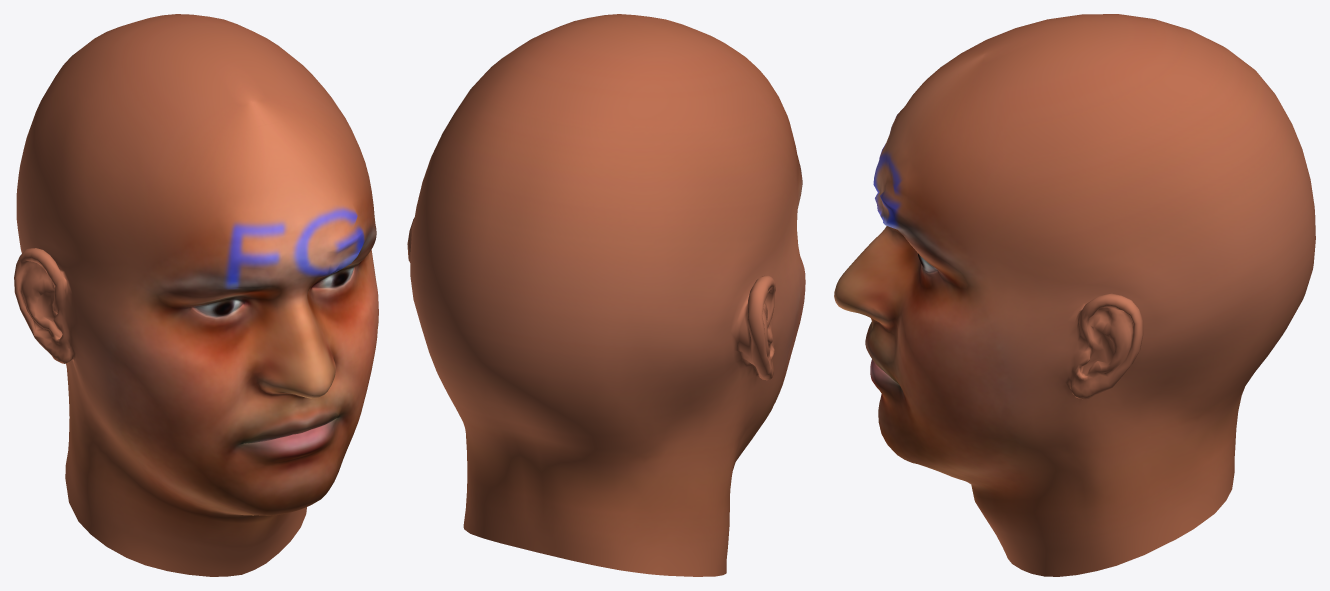
File: random_anyrace_anysex_15.obj
3 views of the same model, side by side, from view 1: azimuth 30°, elevation 25°; view 2: azimuth 150°, elevation 25°; view 3: azimuth 270°, elevation 25° (orthographic). The views are drawn at different scales.
Parts seen in each view (by area): view 1: HeadHires; view 2: HeadHires; view 3: HeadHires.
Boxes of the visible parts, left/top/right/bottom form: HeadHires: left=14, top=14, right=378, bottom=576; HeadHires: left=407, top=14, right=805, bottom=576; HeadHires: left=834, top=14, right=1315, bottom=576.
Bounding box in the file's own units: 192 × 283 × 236.
Materials: 3 (3 with a texture image).
